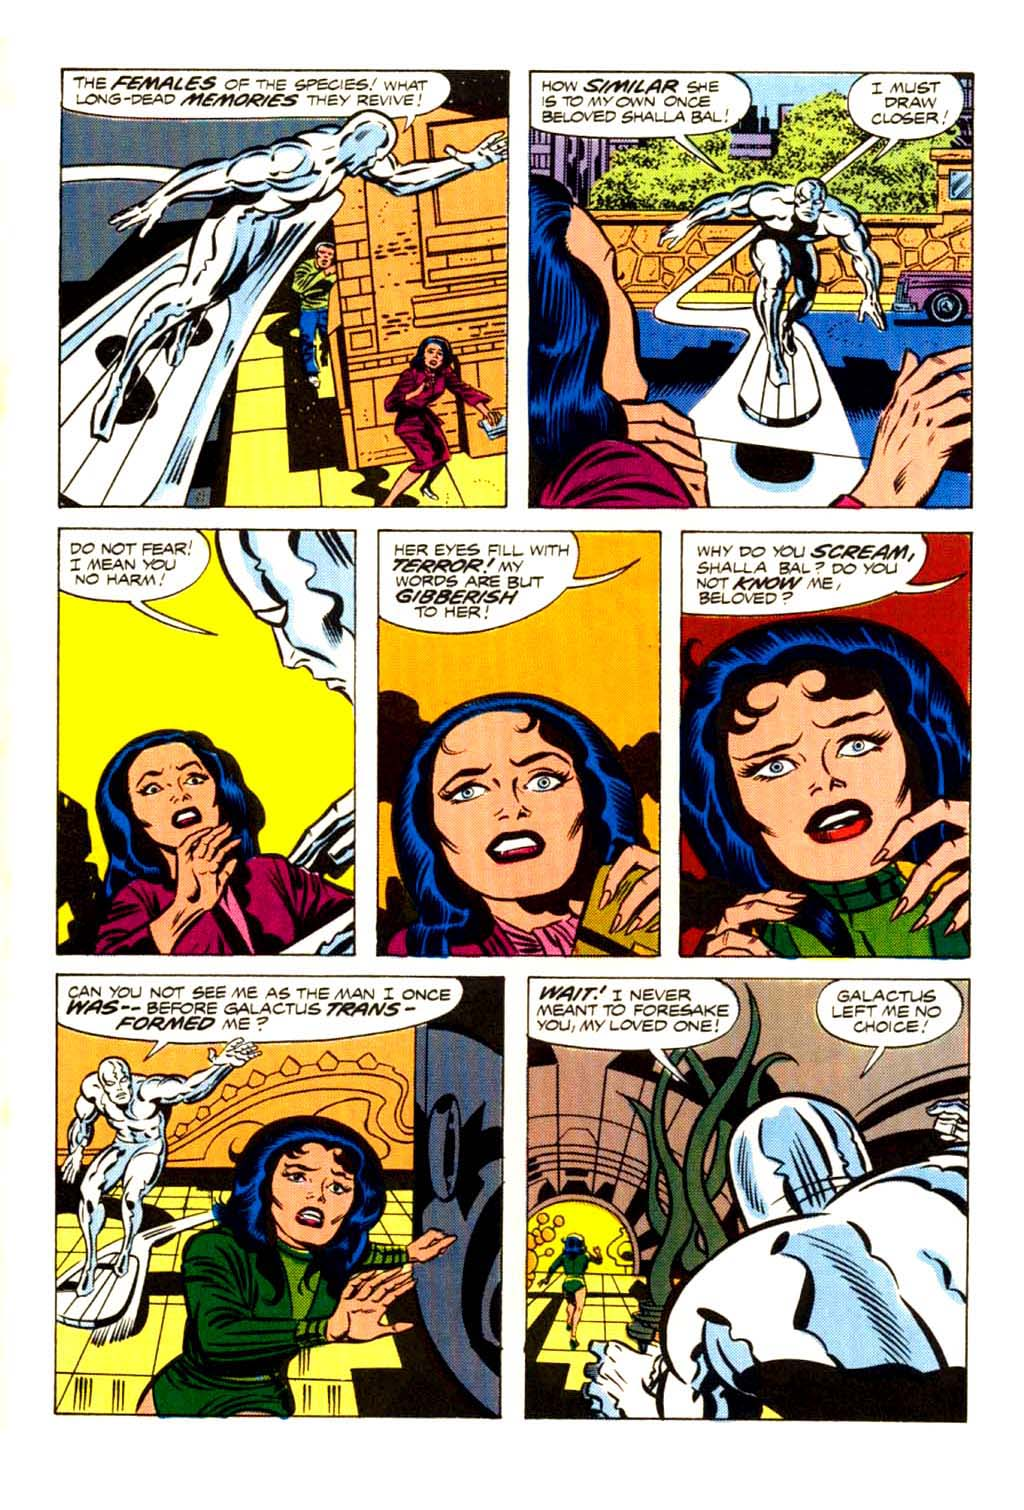Baloon: (53, 976, 459, 1045), (378, 529, 627, 634), (59, 64, 450, 127), (688, 538, 960, 612), (529, 985, 743, 1069), (57, 538, 222, 644), (536, 71, 753, 147), (815, 983, 960, 1076), (846, 64, 960, 143)
Vignetta: (57, 62, 504, 511), (55, 976, 504, 1422), (529, 973, 971, 1425), (533, 69, 974, 508), (55, 532, 353, 959), (681, 527, 967, 959), (381, 527, 662, 959)
